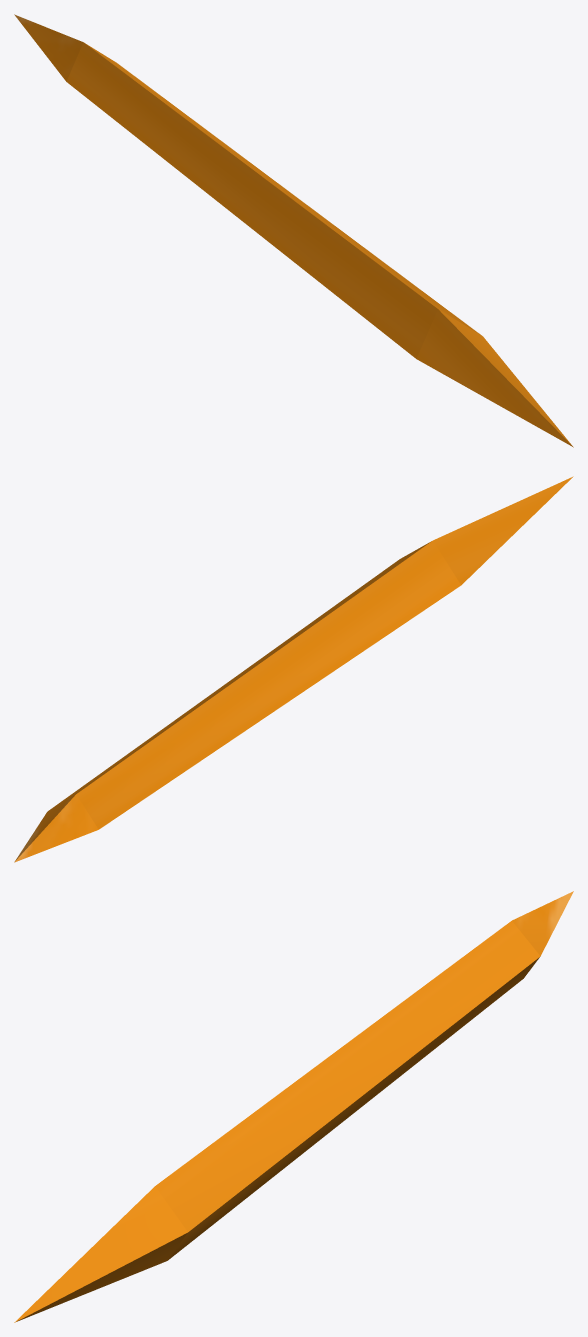
File: Enemy_RangedProjectile.fbx
3 views of the same model, one above another, from view 1: azimuth 30°, elevation 25°; view 2: azimuth 150°, elevation 25°; view 3: azimuth 330°, elevation 25° (orthographic).
Parts seen in each view (by area): view 1: Projetil_Ranged; view 2: Projetil_Ranged; view 3: Projetil_Ranged.
Boxes of the visible parts, x1=… form: Projetil_Ranged: x1=14, y1=14, x2=573, y2=447; Projetil_Ranged: x1=14, y1=476, x2=573, y2=862; Projetil_Ranged: x1=14, y1=891, x2=573, y2=1322.
Size of the model in its own units: 5.02 by 5.42 by 75.92.
